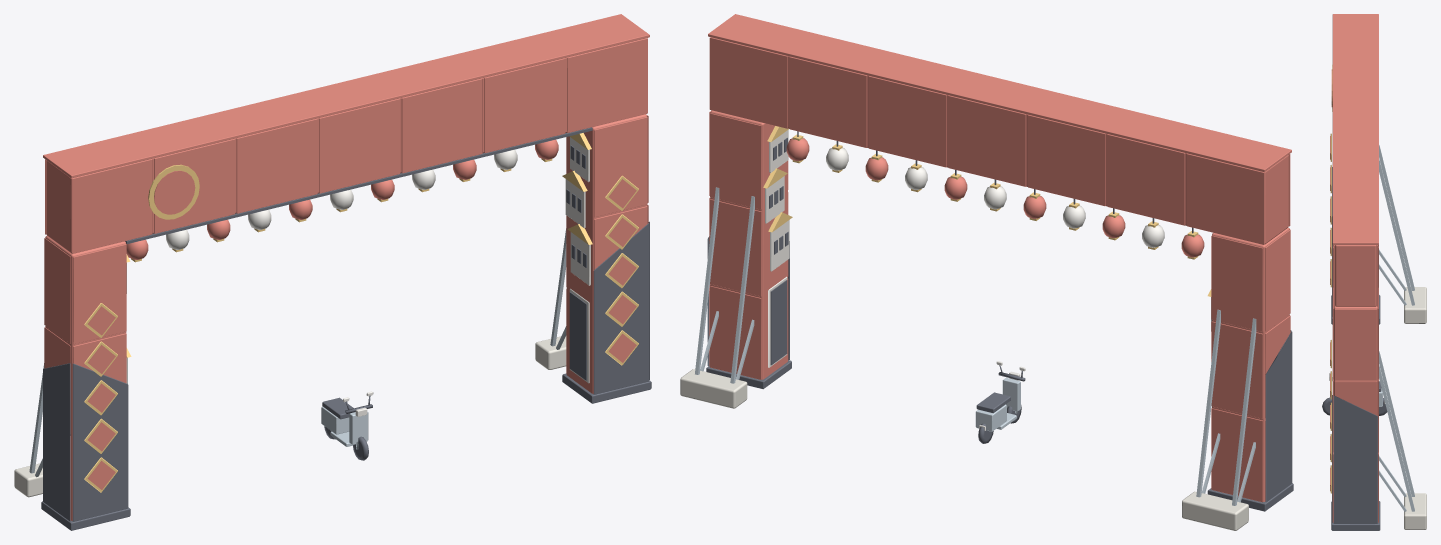
Rendered from dadao-entrance.glb.
3 renders of one model, left to right at view 1: azimuth 30°, elevation 25°; view 2: azimuth 150°, elevation 25°; view 3: azimuth 270°, elevation 25°, orthographic. The views are drawn at different scales.
Parts seen in each view (by area): view 1: portal, scooter; view 2: portal, scooter; view 3: portal, scooter.
Part boxes in pixels (x1,y1,x2,y2): portal: [14, 14, 651, 530]; scooter: [321, 391, 373, 460]; portal: [680, 14, 1293, 530]; scooter: [975, 361, 1025, 443]; portal: [1330, 14, 1426, 530]; scooter: [1322, 372, 1387, 415].
Size of the model in its own units: 14.17 by 8.27 by 2.73.
